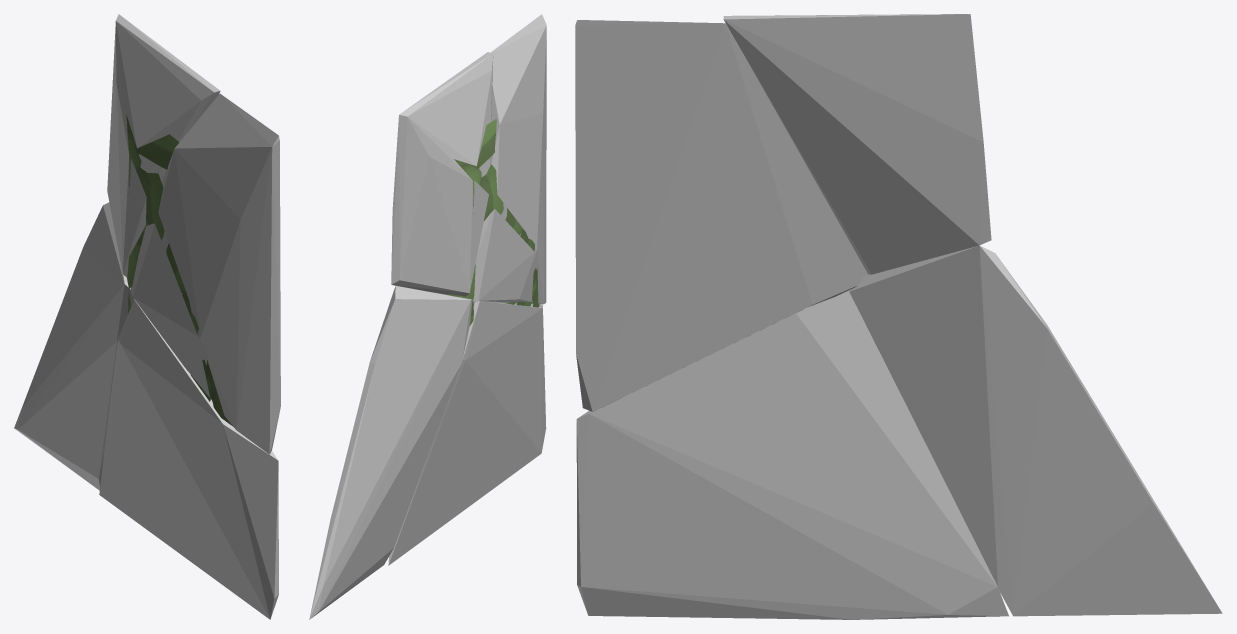
The model's file is SM_Env_Leaves_Clump_06.fbx.
3 renders of one model, left to right at view 1: azimuth 30°, elevation 25°; view 2: azimuth 150°, elevation 25°; view 3: azimuth 270°, elevation 25°, orthographic. The views are drawn at different scales.
Parts seen in each view (by area): view 1: SM_Env_Leaves_Clump_06_ConvexHulls, SM_Env_Leaves_Clump_06; view 2: SM_Env_Leaves_Clump_06_ConvexHulls, SM_Env_Leaves_Clump_06; view 3: SM_Env_Leaves_Clump_06_ConvexHulls.
Part boxes in pixels (<box>): SM_Env_Leaves_Clump_06_ConvexHulls: <box>14,14,280,619</box>; SM_Env_Leaves_Clump_06: <box>126,114,232,426</box>; SM_Env_Leaves_Clump_06_ConvexHulls: <box>309,14,546,619</box>; SM_Env_Leaves_Clump_06: <box>448,119,539,325</box>; SM_Env_Leaves_Clump_06_ConvexHulls: <box>575,14,1222,619</box>.
Bounding box in the file's own units: 9.82 × 114 × 117.
Materials: 2 (1 with a texture image).
